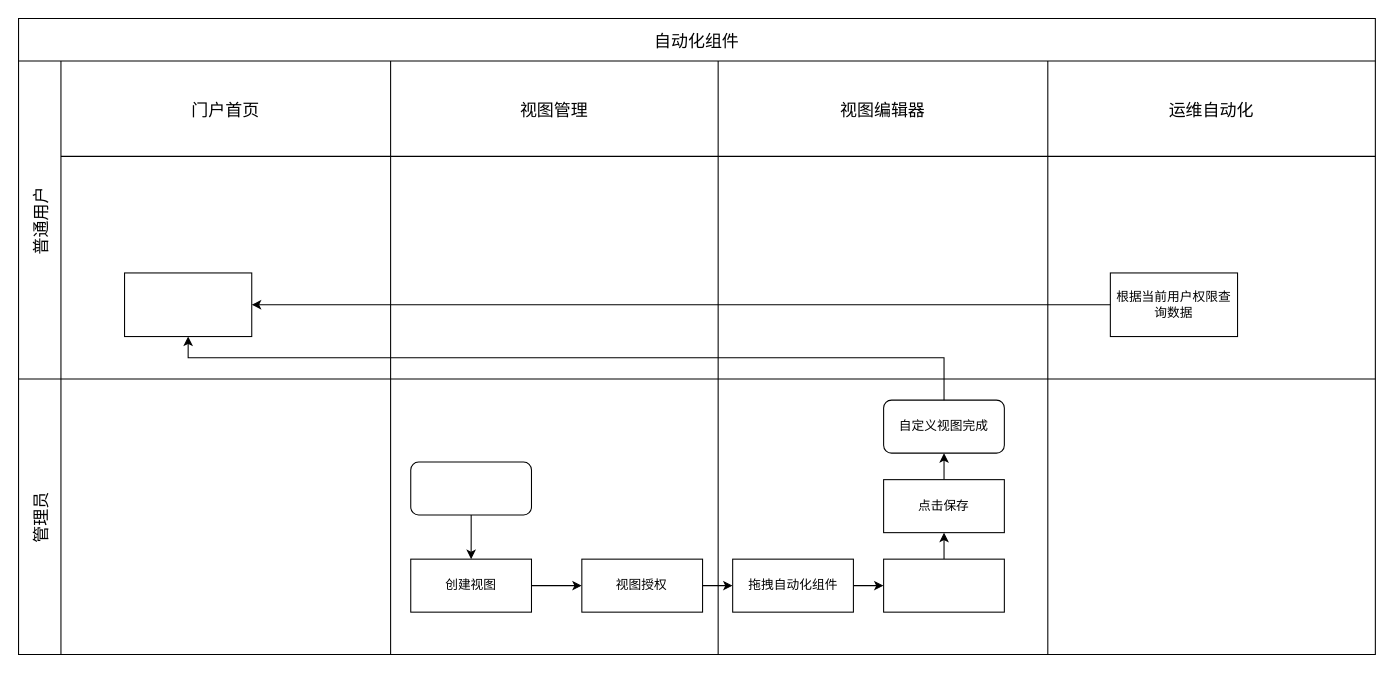
Some shapes in this 1394 by 673 pixel diagram are drawn without their labels. Each missing label, with the centre of its shape:
开始: the point at 470,488
查询作业列表: the point at 187,304
组件配置: the point at 943,585
